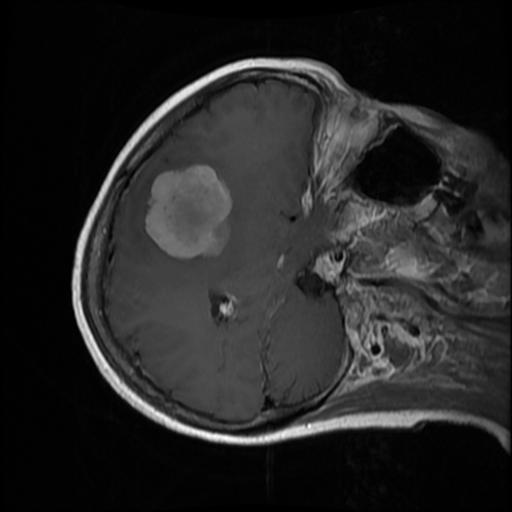meningioma: (143, 163, 232, 260)
